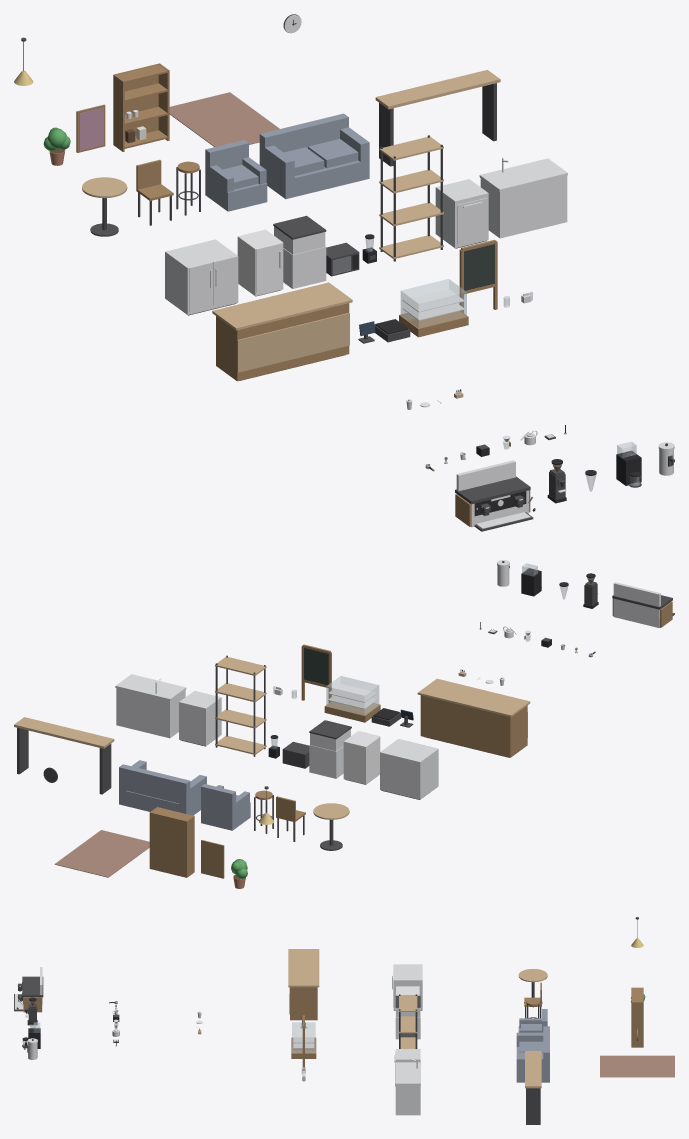
The model's file is cafe_props.glb.
3 renders of one model, top to bottom at view 1: azimuth 30°, elevation 25°; view 2: azimuth 150°, elevation 25°; view 3: azimuth 270°, elevation 25°, orthographic. The views are drawn at different scales.
Parts seen in each view (by area): view 1: ServiceCounter, Sofa, SinkUnit, UndercounterFridge, RetailShelf, EspressoMachine, ShelvingRack, FloorRug, LoungeArmchair, WindowBarCounter, PastryDisplayCase, Dishwasher (+8 smaller); view 2: ServiceCounter, SinkUnit, Sofa, UndercounterFridge, RetailShelf, ShelvingRack, FloorRug, WindowBarCounter, EspressoMachine, PastryDisplayCase, Dishwasher, IceMachine (+8 smaller); view 3: ServiceCounter, FloorRug, SinkUnit, Sofa, WindowBarCounter, ShelvingRack, EspressoMachine, PastryDisplayCase, UndercounterFridge, RetailShelf, LoungeArmchair, IceMachine (+2 smaller).
Part boxes in pixels (left/top/right/bottom): ServiceCounter: left=212, top=282, right=352, bottom=381; Sofa: left=259, top=113, right=369, bottom=199; SinkUnit: left=479, top=157, right=567, bottom=238; UndercounterFridge: left=165, top=239, right=238, bottom=315; RetailShelf: left=113, top=63, right=169, bottom=151; EspressoMachine: left=455, top=460, right=535, bottom=531; ShelvingRack: left=379, top=135, right=443, bottom=261; FloorRug: left=169, top=92, right=279, bottom=146; LoungeArmchair: left=205, top=140, right=267, bottom=211; WindowBarCounter: left=375, top=70, right=500, bottom=166; PastryDisplayCase: left=399, top=279, right=468, bottom=337; Dishwasher: left=435, top=179, right=488, bottom=248; ServiceCounter: left=417, top=678, right=530, bottom=757; SinkUnit: left=115, top=674, right=186, bottom=738; Sofa: left=119, top=760, right=206, bottom=815; UndercounterFridge: left=380, top=739, right=438, bottom=799; RetailShelf: left=149, top=807, right=194, bottom=877; ShelvingRack: left=215, top=655, right=266, bottom=756; FloorRug: left=54, top=830, right=149, bottom=877; WindowBarCounter: left=14, top=717, right=114, bottom=794; EspressoMachine: left=612, top=582, right=674, bottom=627; PastryDisplayCase: left=324, top=676, right=380, bottom=722; Dishwasher: left=179, top=690, right=221, bottom=746; IceMachine: left=309, top=720, right=351, bottom=778; ServiceCounter: left=288, top=949, right=319, bottom=1020; FloorRug: left=600, top=1055, right=674, bottom=1077; SinkUnit: left=395, top=1058, right=420, bottom=1115; Sofa: left=516, top=1026, right=549, bottom=1082; WindowBarCounter: left=525, top=1051, right=541, bottom=1124; ShelvingRack: left=399, top=994, right=417, bottom=1048; EspressoMachine: left=14, top=967, right=43, bottom=1012; PastryDisplayCase: left=291, top=1022, right=316, bottom=1058; UndercounterFridge: left=392, top=964, right=422, bottom=1010; RetailShelf: left=631, top=987, right=643, bottom=1047; LoungeArmchair: left=518, top=1009, right=547, bottom=1032; IceMachine: left=395, top=996, right=420, bottom=1039.
Bounding box in the file's own units: 7.99 × 2.29 × 15.85.
